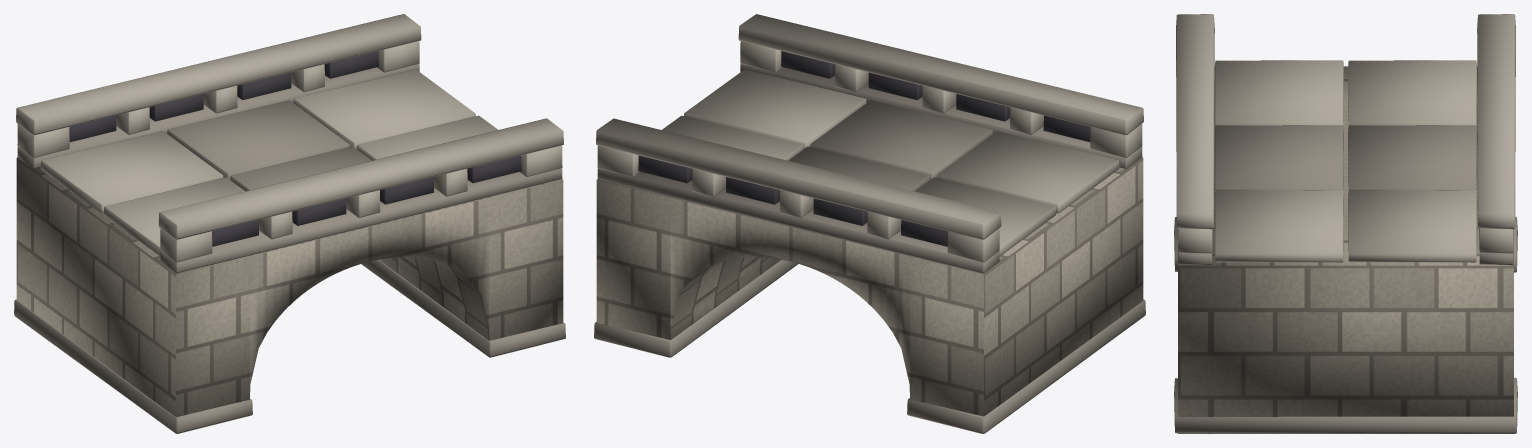
The model's file is 23_bridge_arch.glb.
3 views of the same model, side by side, from view 1: azimuth 30°, elevation 25°; view 2: azimuth 150°, elevation 25°; view 3: azimuth 270°, elevation 25° (orthographic). The views are drawn at different scales.
Visible parts, largest first — view 1: ArchBody, TopRail_Back, TopRail_Front, DeckSlab_0_-1, DeckSlab_2_-1, DeckSlab_1_-1, Curb_Front, PierTrim_-1, Curb_Back, DeckSlab_0_1, PierTrim_1, DeckSlab_2_1 (+19 smaller); view 2: ArchBody, TopRail_Back, TopRail_Front, DeckSlab_0_1, DeckSlab_2_1, DeckSlab_1_1, Curb_Back, PierTrim_-1, Curb_Front, DeckSlab_0_-1, PierTrim_1, DeckSlab_2_-1 (+19 smaller); view 3: ArchBody, DeckSlab_2_-1, DeckSlab_2_1, DeckSlab_0_-1, DeckSlab_0_1, DeckSlab_1_-1, DeckSlab_1_1, TopRail_Back, TopRail_Front, PierTrim_1, Baluster_Back_4, Baluster_Front_4 (+3 smaller).
Boxes of the visible parts, x1=… form: ArchBody: x1=16, y1=157, x2=563, y2=417; TopRail_Back: x1=16, y1=14, x2=421, y2=134; TopRail_Front: x1=158, y1=118, x2=563, y2=239; DeckSlab_0_-1: x1=40, y1=131, x2=223, y2=213; DeckSlab_2_-1: x1=293, y1=69, x2=475, y2=148; DeckSlab_1_-1: x1=167, y1=100, x2=349, y2=179; Curb_Front: x1=160, y1=168, x2=562, y2=273; PierTrim_-1: x1=14, y1=299, x2=252, y2=433; Curb_Back: x1=17, y1=64, x2=419, y2=168; DeckSlab_0_1: x1=103, y1=177, x2=245, y2=255; PierTrim_1: x1=361, y1=259, x2=565, y2=357; DeckSlab_2_1: x1=356, y1=115, x2=497, y2=160; ArchBody: x1=596, y1=157, x2=1143, y2=416; TopRail_Back: x1=596, y1=118, x2=1001, y2=239; TopRail_Front: x1=738, y1=14, x2=1143, y2=135; DeckSlab_0_1: x1=936, y1=131, x2=1119, y2=213; DeckSlab_2_1: x1=684, y1=69, x2=866, y2=149; DeckSlab_1_1: x1=810, y1=100, x2=992, y2=179; Curb_Back: x1=597, y1=168, x2=999, y2=273; PierTrim_-1: x1=907, y1=299, x2=1145, y2=433; Curb_Front: x1=740, y1=64, x2=1142, y2=168; DeckSlab_0_-1: x1=915, y1=177, x2=1056, y2=256; PierTrim_1: x1=594, y1=259, x2=798, y2=357; DeckSlab_2_-1: x1=662, y1=115, x2=803, y2=160; ArchBody: x1=1178, y1=66, x2=1513, y2=433; DeckSlab_2_-1: x1=1348, y1=190, x2=1477, y2=262; DeckSlab_2_1: x1=1214, y1=190, x2=1343, y2=262; DeckSlab_0_-1: x1=1348, y1=60, x2=1477, y2=125; DeckSlab_0_1: x1=1214, y1=60, x2=1343, y2=125; DeckSlab_1_-1: x1=1348, y1=125, x2=1477, y2=190; DeckSlab_1_1: x1=1214, y1=125, x2=1343, y2=190; TopRail_Back: x1=1477, y1=14, x2=1515, y2=229; TopRail_Front: x1=1176, y1=14, x2=1214, y2=229; PierTrim_1: x1=1174, y1=377, x2=1517, y2=433; Baluster_Back_4: x1=1479, y1=228, x2=1513, y2=253; Baluster_Front_4: x1=1178, y1=228, x2=1212, y2=253.
Bounding box in the file's own units: 1.9 × 0.9725 × 1.37.
4 materials, 1 textured.
